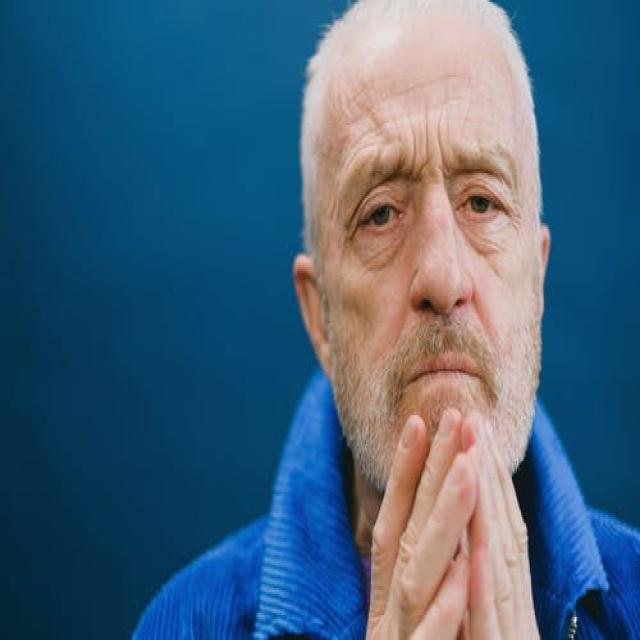Wrinkles: (349, 74, 464, 122), (347, 116, 397, 149), (345, 140, 392, 172), (418, 109, 430, 183), (438, 121, 452, 172), (410, 118, 416, 179)
